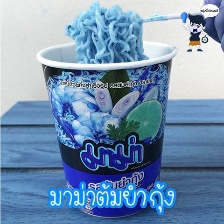paper_cup: (31, 36, 182, 223)
